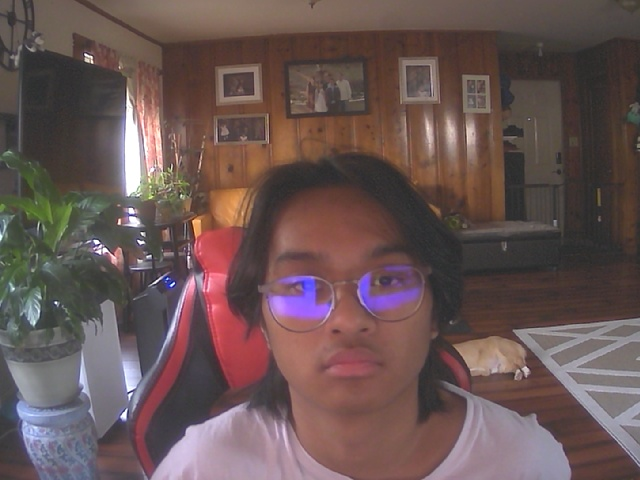neutral: (247, 163, 450, 419)
